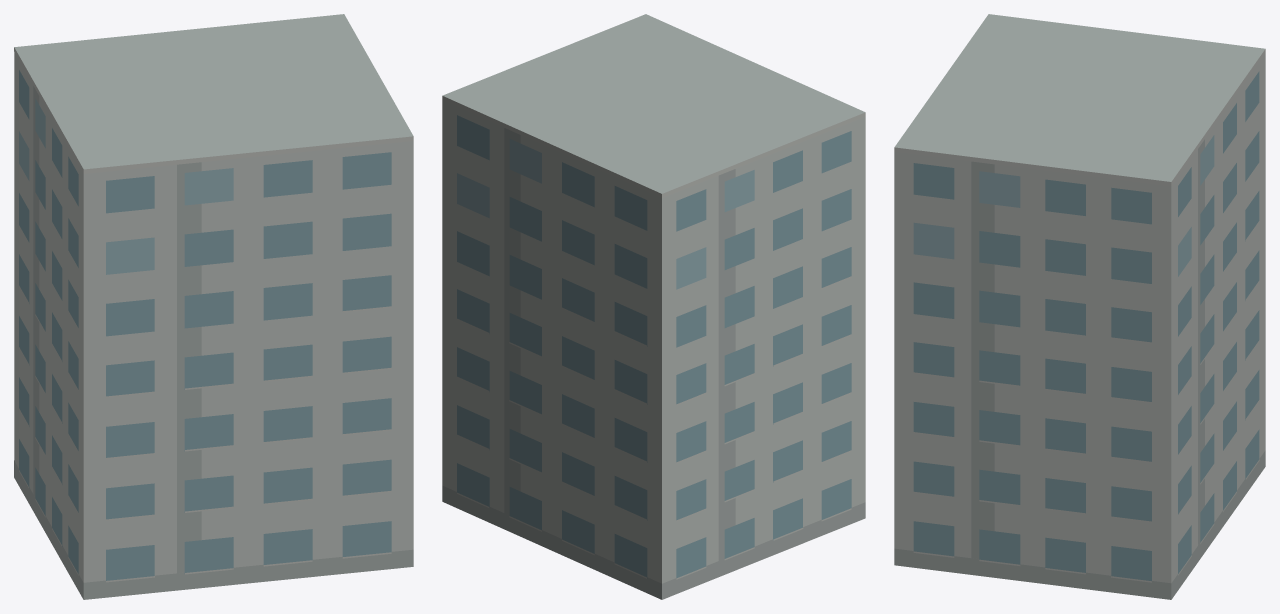
File: survey-upis-32873956.glb
The picture shows the model from 3 angles, left to right: view 1: azimuth 30°, elevation 25°; view 2: azimuth 150°, elevation 25°; view 3: azimuth 270°, elevation 25°; orthographic projection. The views are drawn at different scales.
Parts seen in each view (by area): view 1: survey-upis-32873956.tmp; view 2: survey-upis-32873956.tmp; view 3: survey-upis-32873956.tmp.
Boxes of the visible parts, x1,y1,x2,y2 form: survey-upis-32873956.tmp: (14, 14, 413, 599); survey-upis-32873956.tmp: (442, 14, 865, 599); survey-upis-32873956.tmp: (894, 14, 1265, 599).
Size of the model in its own units: 19.58 by 22.7 by 18.29.
